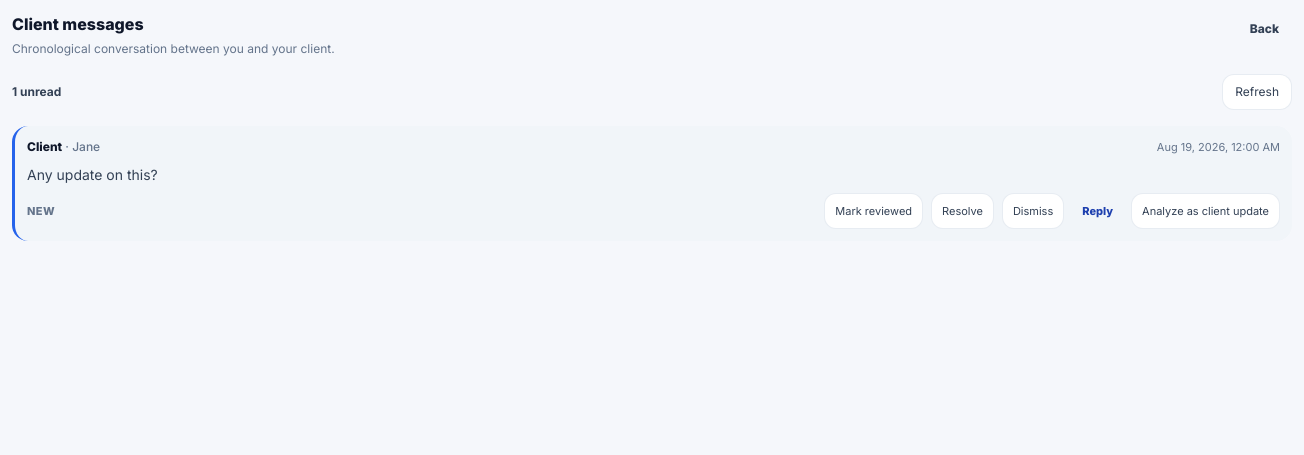
ClientCommunicationHistoryModal - reply UX › 56. an empty reply is blocked client-side
Expected: the text "Any update on this?" is shown, [27,166,158,183]
Click the button "Reply" at x=1098, y=211, box [1072,193,1123,229]
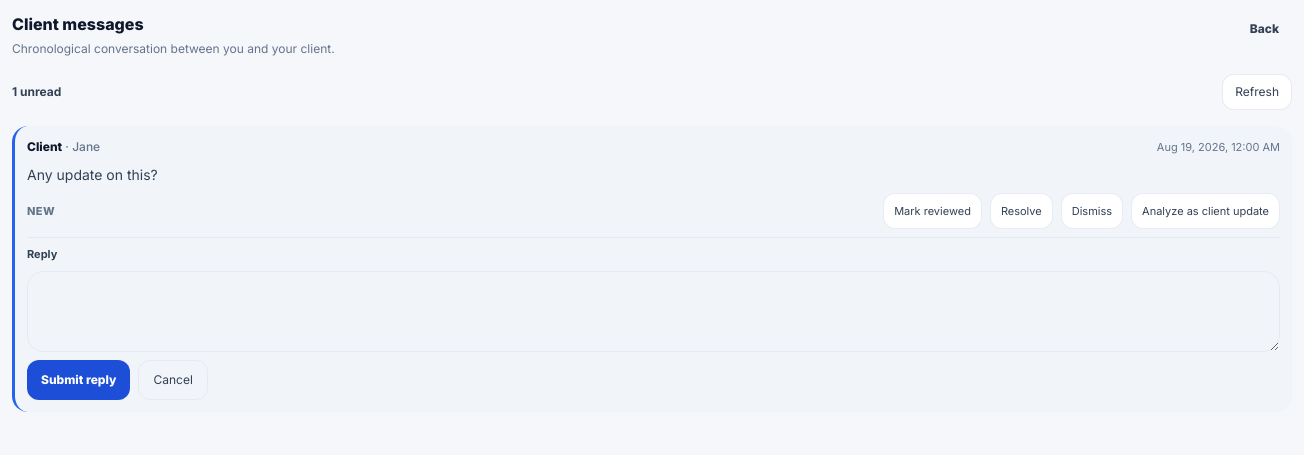
Click the button "Submit reply" at x=79, y=380, box [27,360,130,400]
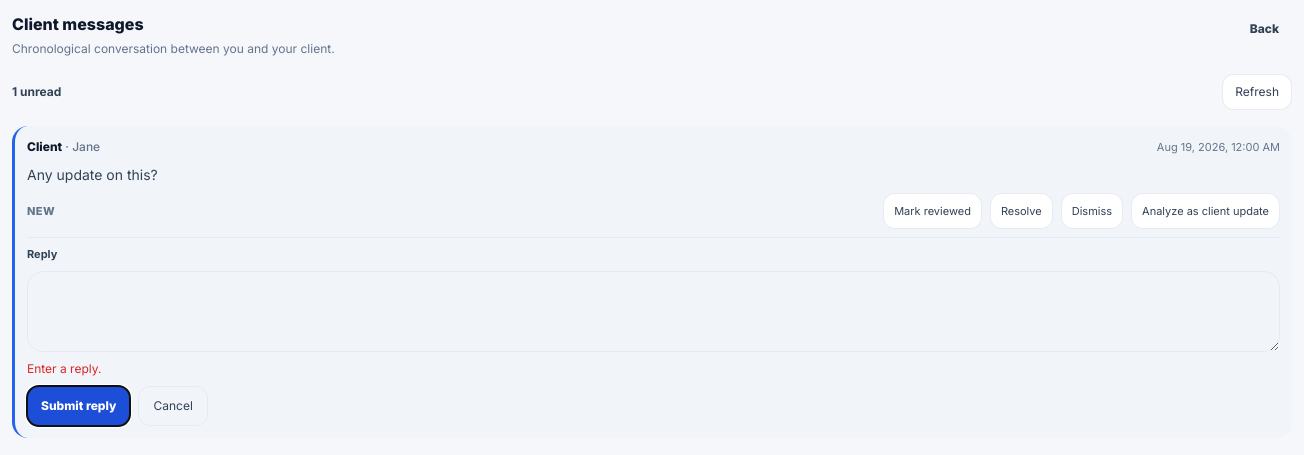
Now the text "Enter a reply." is shown, box [27,360,101,376]
